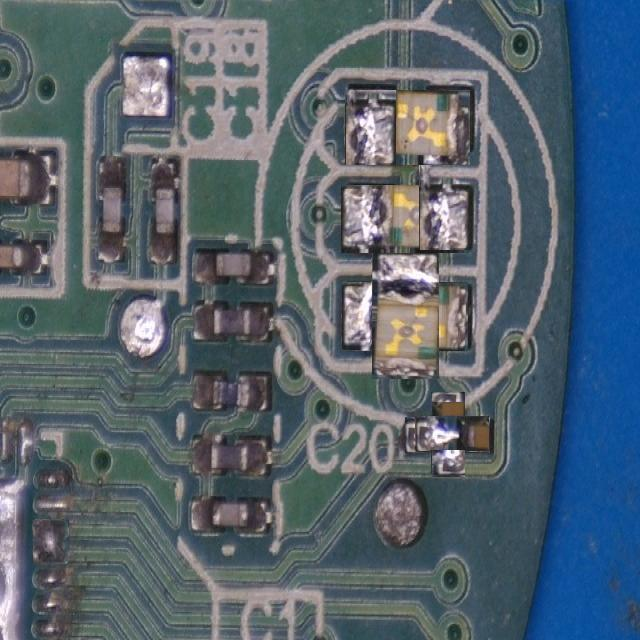Incorrect_installation: (344, 89, 470, 165), (341, 185, 469, 251), (371, 254, 439, 378), (430, 393, 465, 476)
Short_circuit: (419, 89, 469, 250), (416, 417, 488, 450), (32, 519, 69, 564)
